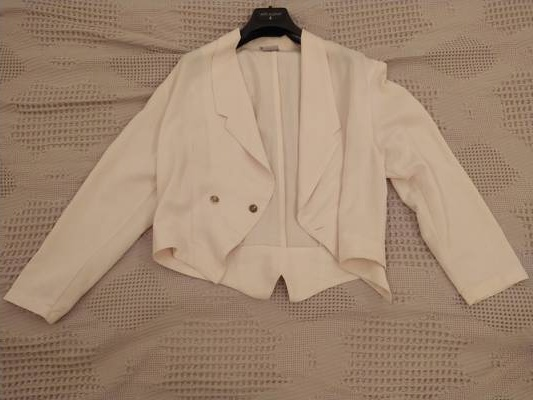Blazer: (0, 26, 523, 342)
